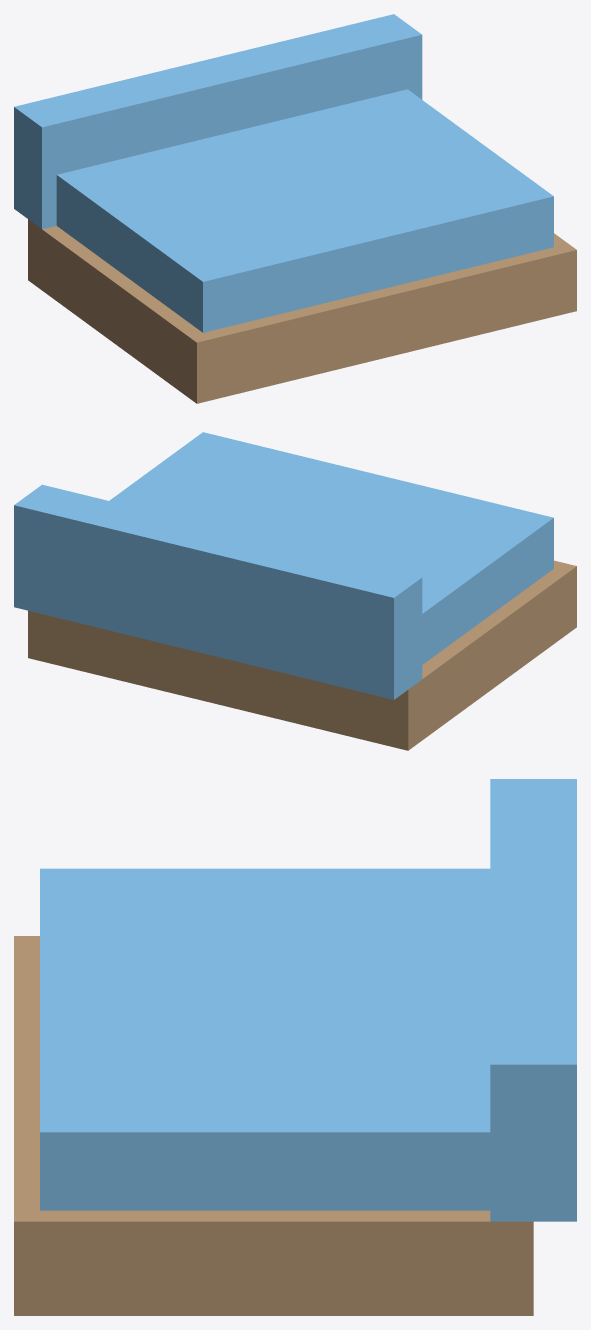
Rendered from Prop_Pet_AMF_Bed_V7.glb.
The picture shows the model from 3 angles, top to bottom: view 1: azimuth 30°, elevation 25°; view 2: azimuth 150°, elevation 25°; view 3: azimuth 270°, elevation 25°; orthographic projection. The views are drawn at different scales.
Parts seen in each view (by area): view 1: Prop_Pet_AMF_Bed_V7; view 2: Prop_Pet_AMF_Bed_V7; view 3: Prop_Pet_AMF_Bed_V7.
Boxes of the visible parts, x1,y1,x2,y2 form: Prop_Pet_AMF_Bed_V7: [14, 14, 576, 403]; Prop_Pet_AMF_Bed_V7: [14, 432, 576, 750]; Prop_Pet_AMF_Bed_V7: [14, 779, 576, 1315].
Bounding box in the file's own units: 0.78 × 0.32 × 0.65.
